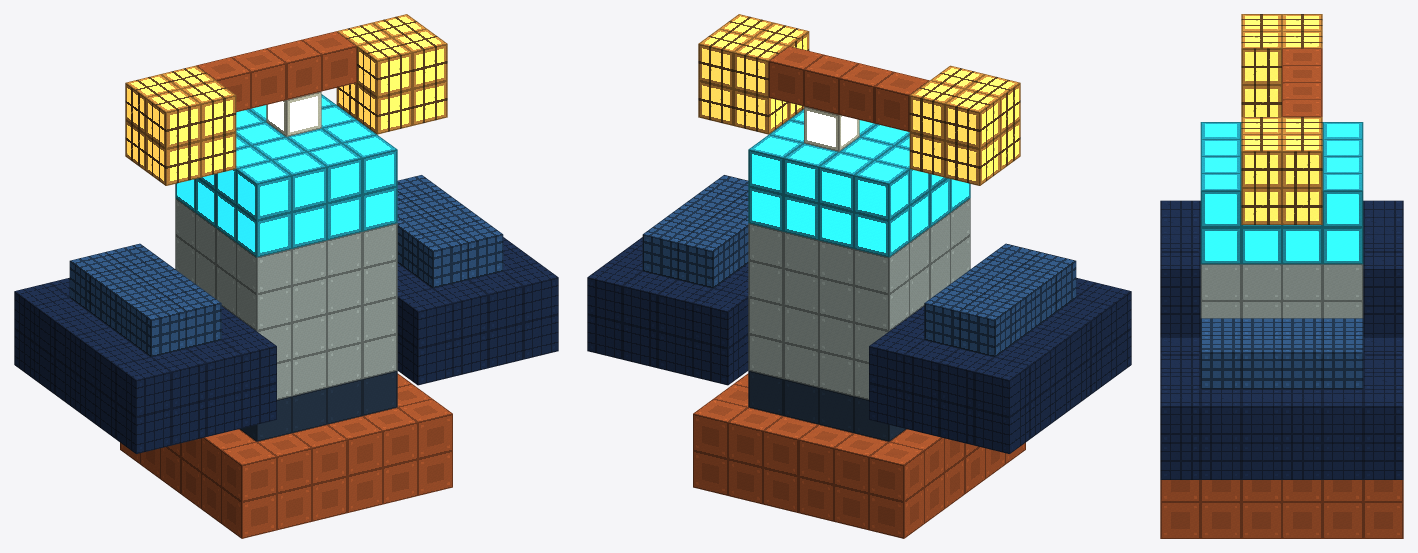
Rendered from navigation_buoy.glb.
3 views of the same model, side by side, from view 1: azimuth 30°, elevation 25°; view 2: azimuth 150°, elevation 25°; view 3: azimuth 270°, elevation 25° (orthographic).
Parts seen in each view (by area): view 1: BuoyMast, BuoyBeacon; view 2: BuoyMast, BuoyBeacon; view 3: BuoyMast, BuoyBeacon.
Part boxes in pixels (x1,y1,x2,y2): BuoyMast: (14, 91, 558, 538); BuoyBeacon: (125, 14, 447, 185); BuoyMast: (587, 106, 1131, 538); BuoyBeacon: (698, 14, 1020, 185); BuoyMast: (1160, 122, 1403, 538); BuoyBeacon: (1241, 14, 1322, 224).
Size of the model in its own units: 3 by 2.75 by 1.5.
1 material, 1 textured.
